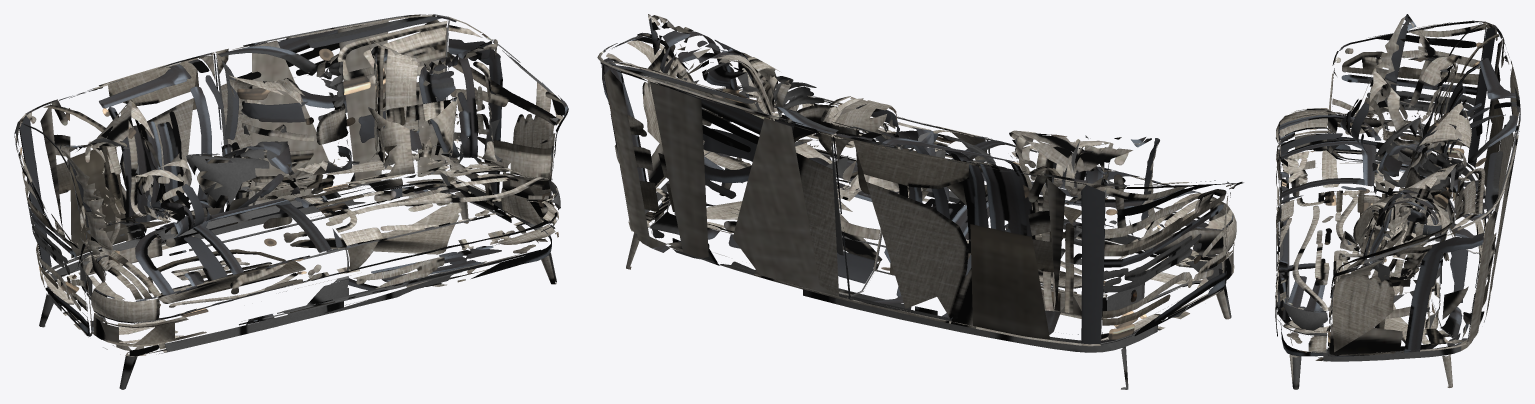
Rendered from raw_model.obj.
The picture shows the model from 3 angles, left to right: view 1: azimuth 30°, elevation 25°; view 2: azimuth 150°, elevation 25°; view 3: azimuth 270°, elevation 25°; orthographic projection. The views are drawn at different scales.
Visible parts, largest first — view 1: solid_003, solid_004, solid_005, solid_002, solid_001; view 2: solid_003, solid_004, solid_005, solid_002, solid_001; view 3: solid_003, solid_004, solid_002, solid_005, solid_001.
Part boxes in pixels (x1,y1,x2,y2): solid_003: (14, 14, 568, 346); solid_004: (60, 39, 502, 262); solid_005: (39, 179, 556, 389); solid_002: (135, 97, 464, 242); solid_001: (186, 124, 306, 208); solid_003: (597, 32, 1243, 346); solid_004: (648, 14, 1164, 240); solid_005: (626, 152, 1231, 389); solid_002: (738, 52, 1114, 204); solid_001: (883, 123, 995, 205); solid_003: (1275, 20, 1520, 357); solid_004: (1361, 14, 1458, 279); solid_002: (1340, 68, 1414, 257); solid_005: (1280, 156, 1486, 389); solid_001: (1372, 117, 1426, 199).
Bounding box in the file's own units: 1.74 × 0.6489 × 0.7901.
